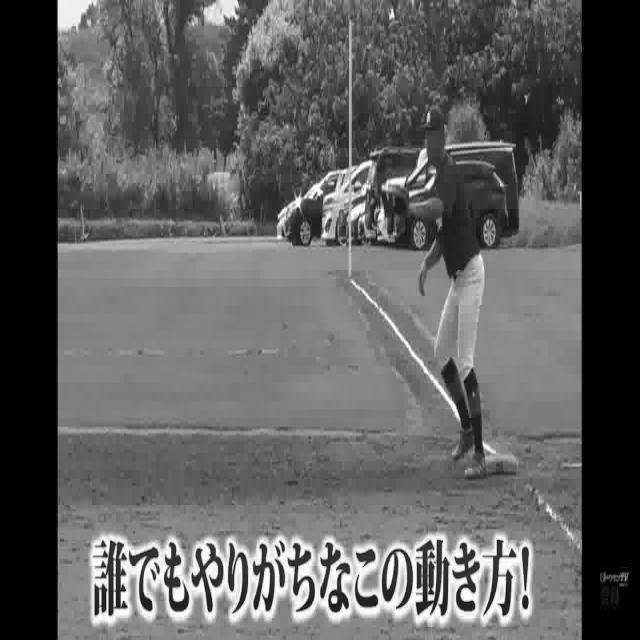base: (476, 449, 518, 477)
baseball_glove: (380, 180, 413, 228)
shoe: (462, 448, 488, 485), (451, 425, 477, 461)
